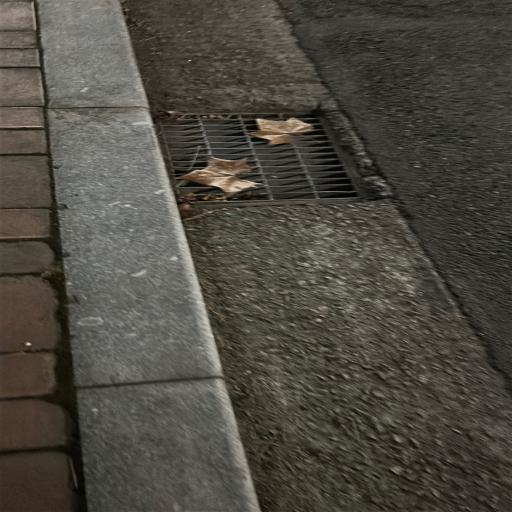debris: (180, 157, 265, 192), (248, 117, 313, 146)
drain: (157, 113, 365, 202)
